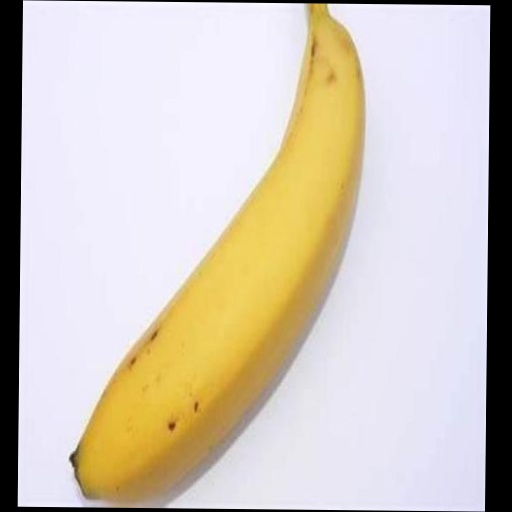fruit: (71, 3, 364, 500)
